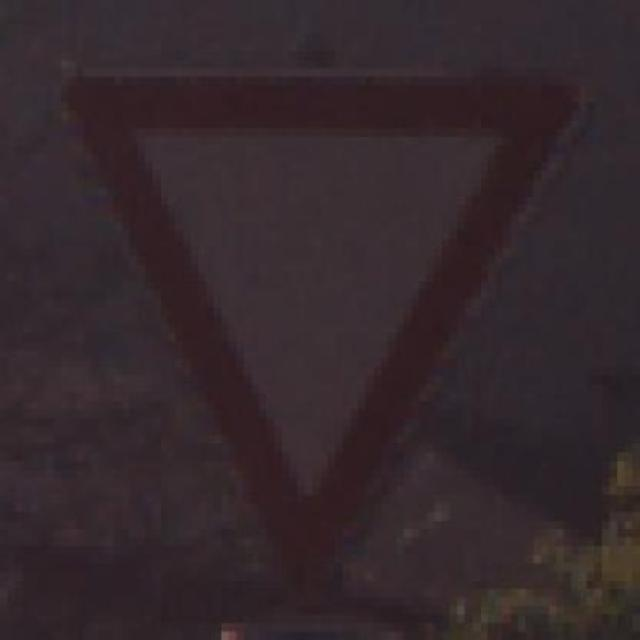Give Way: (53, 34, 618, 606)
